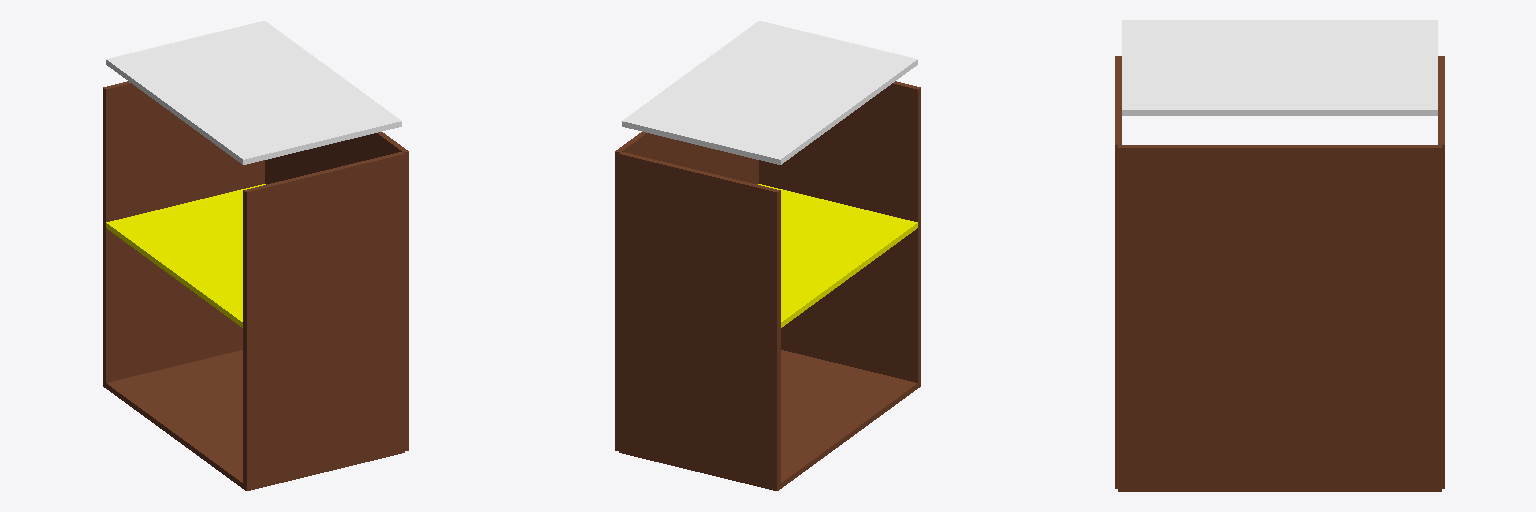
URDF robot description (cabinet_model):
<robot name="cabinet_model">
  <material name="brown"><color rgba="0.5 0.3 0.2 1"/></material>
  <material name="glass"><color rgba="1 1 1 0"/></material>
  <material name="mid"><color rgba="1 1 0 0.9"/></material>
  <link name="cabinet_bottom_plate">
    <inertial>
      <mass value="20.0" />
      <origin xyz="0 0 -1.0" /> 
      <inertia  ixx="2" ixy="0.0"  ixz="0.0"  iyy="2"  iyz="0.0"  izz="2" />
    </inertial>
    <visual>
      <origin xyz="0 0 0.01" rpy="0 0 0" />
      <geometry>
        <box size="0.6 0.9 0.020"/>
      </geometry>
      <material name="brown"/>
    </visual>
    <collision>
      <origin xyz="0 0 0.01" rpy="0 0 0" />
      <geometry>
        <box size="0.6 0.9 0.020"/>
      </geometry>
    </collision>
  </link>
  <link name="cabinet_middle_plate">
    <inertial>
      <mass value="1.0" />
      <origin xyz="0 0 0.0" /> 
      <inertia  ixx="0.01" ixy="0.0"  ixz="0.0"  iyy="0.01"  iyz="0.0"  izz="0.01" />
    </inertial>
    <visual>
      <origin xyz="0 0 0.59" rpy="0 0 0" />
      <geometry>
        <box size="0.6 0.9 0.020"/>
      </geometry>
      <material name="mid"/>
    </visual>
    <collision>
      <origin xyz="0 0 0.59" rpy="0 0 0" />
      <geometry>
        <box size="0.6 0.9 0.020"/>
      </geometry>
    </collision>
  </link>
  <link name="cabinet_top_plate">
    <inertial>
      <mass value="1.0" />
      <origin xyz="0 0 0.0" /> 
      <inertia  ixx="0.01" ixy="0.0"  ixz="0.0"  iyy="0.01"  iyz="0.0"  izz="0.01" />
    </inertial>
    <visual>
      <origin xyz="0 0 1.18" rpy="0 0 0" />
      <geometry>
        <box size="0.6 0.9 0.020"/>
      </geometry>
      <material name="glass"/>
    </visual>
    <collision>
      <origin xyz="0 0 1.08" rpy="0 0 0" />
      <geometry>
        <box size="0.6 0.9 0.020"/>
      </geometry>
    </collision>
  </link>
  <link name="cabinet_left_plate">
    <inertial>
      <mass value="1.0" />
      <origin xyz="0 0 0.0" /> 
      <inertia  ixx="0.01" ixy="0.0"  ixz="0.0"  iyy="0.01"  iyz="0.0"  izz="0.01" />
    </inertial>
    <visual>
      <origin xyz="0 0.46 0.54" rpy="0 0 0" />
      <geometry>
        <box size="0.6 0.02 1.08"/>
      </geometry>
      <material name="brown"/>
    </visual>
    <collision>
      <origin xyz="0 0.46 0.54" rpy="0 0 0" />
      <geometry>
        <box size="0.6 0.02 1.08"/>
      </geometry>
    </collision>
  </link>
  <link name="cabinet_right_plate">
    <inertial>
      <mass value="1.0" />
      <origin xyz="0 0 0.0" /> 
      <inertia  ixx="0.01" ixy="0.0"  ixz="0.0"  iyy="0.01"  iyz="0.0"  izz="0.01" />
    </inertial>
    <visual>
      <origin xyz="0 -0.46 0.54" rpy="0 0 0" />
      <geometry>
        <box size="0.6 0.02 1.08"/>
      </geometry>
      <material name="brown"/>
    </visual>
    <collision>
      <origin xyz="0 -0.46 0.54" rpy="0 0 0" />
      <geometry>
        <box size="0.6 0.02 1.08"/>
      </geometry>
    </collision>
  </link>
  <link name="cabinet_back_plate">
    <inertial>
      <mass value="1.0" />
      <origin xyz="0 0 0" /> 
      <inertia  ixx="0.01" ixy="0.0"  ixz="0.0"  iyy="0.01"  iyz="0.0"  izz="0.01" />
    </inertial>
    <visual>
      <origin xyz="0.31 0 0.54" rpy="0 0 0" />
      <geometry>
        <box size="0.02 0.92 1.08"/>
      </geometry>
      <material name="brown"/>
    </visual>
    <collision>
      <origin xyz="0.31 0 0.54" rpy="0 0 0" />
      <geometry>
        <box size="0.02 0.92 1.08"/>
      </geometry>
    </collision>
  </link>
  <joint name="middle_plate" type="fixed">
    <parent link="cabinet_bottom_plate"/>
    <child link="cabinet_middle_plate"/>
    <origin xyz="0 0 0"/>
  </joint>
  <joint name="top_plate" type="fixed">
    <parent link="cabinet_bottom_plate"/>
    <child link="cabinet_top_plate"/>
    <origin xyz="0 0 0"/>
  </joint>
  <joint name="left_plate" type="fixed">
    <parent link="cabinet_bottom_plate"/>
    <child link="cabinet_left_plate"/>
    <origin xyz="0 0 0"/>
  </joint>
  <joint name="right_plate" type="fixed">
    <parent link="cabinet_bottom_plate"/>
    <child link="cabinet_right_plate"/>
    <origin xyz="0 0 0"/>
  </joint>
  <joint name="back_plate" type="fixed">
    <parent link="cabinet_bottom_plate"/>
    <child link="cabinet_back_plate"/>
    <origin xyz="0 0 0"/>
  </joint>
  <gazebo reference="cabinet_bottom_plate">
    <mu1>100.0</mu1>
    <mu2>100.0</mu2>
  </gazebo>
  <gazebo>
    <static>true</static>
  </gazebo>
</robot>

--- Render facts (derived) ---
The picture shows the robot from 3 angles, left to right: view 1: azimuth 30°, elevation 25°; view 2: azimuth 150°, elevation 25°; view 3: azimuth 270°, elevation 25°; orthographic projection.
Robot: cabinet_model — 6 links, 5 joints (5 fixed); root link cabinet_bottom_plate; default pose: every joint at zero.
Visible links, largest first — view 1: cabinet_right_plate, cabinet_left_plate, cabinet_top_plate, cabinet_middle_plate, cabinet_bottom_plate, cabinet_back_plate; view 2: cabinet_left_plate, cabinet_right_plate, cabinet_top_plate, cabinet_middle_plate, cabinet_bottom_plate, cabinet_back_plate; view 3: cabinet_back_plate, cabinet_top_plate, cabinet_left_plate, cabinet_right_plate.
Boxes of the visible links, x1,y1,x2,y2 form: cabinet_right_plate: (243,152,404,490); cabinet_left_plate: (103,81,264,387); cabinet_top_plate: (106,21,401,164); cabinet_middle_plate: (106,184,265,327); cabinet_bottom_plate: (106,350,242,488); cabinet_back_plate: (265,132,408,450); cabinet_left_plate: (619,152,780,490); cabinet_right_plate: (759,81,920,387); cabinet_top_plate: (622,21,917,164); cabinet_middle_plate: (758,184,917,327); cabinet_bottom_plate: (781,350,917,488); cabinet_back_plate: (615,132,758,450); cabinet_back_plate: (1118,145,1441,491); cabinet_top_plate: (1122,20,1437,115); cabinet_left_plate: (1438,56,1444,488); cabinet_right_plate: (1115,56,1121,488).
Bounding box of the posed robot: 0.62 × 0.94 × 1.19 m (x, y, z).
Geometry: primitives only (box / cylinder / sphere), no mesh files.